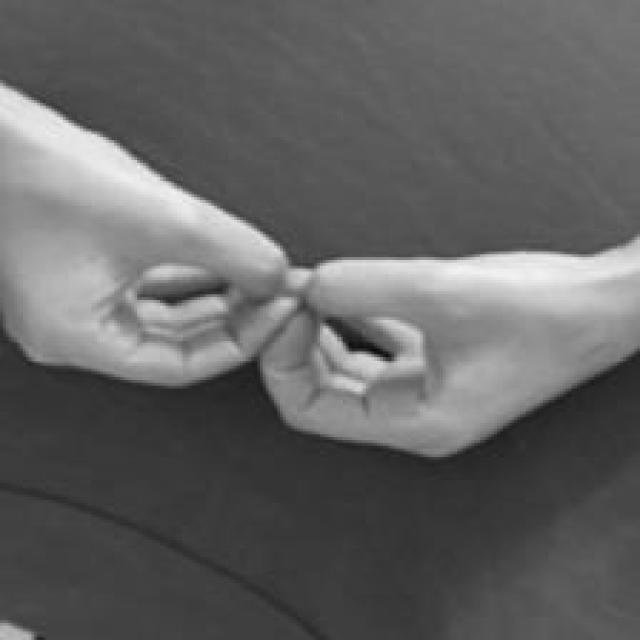B: (0, 79, 640, 458)
